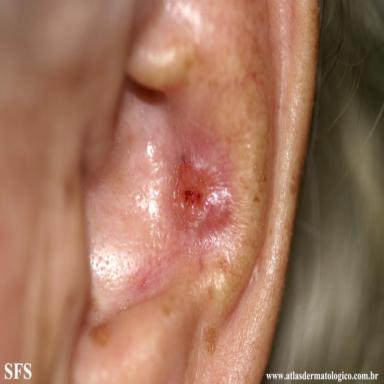basal-cell-carcinoma: (172, 148, 230, 239)
